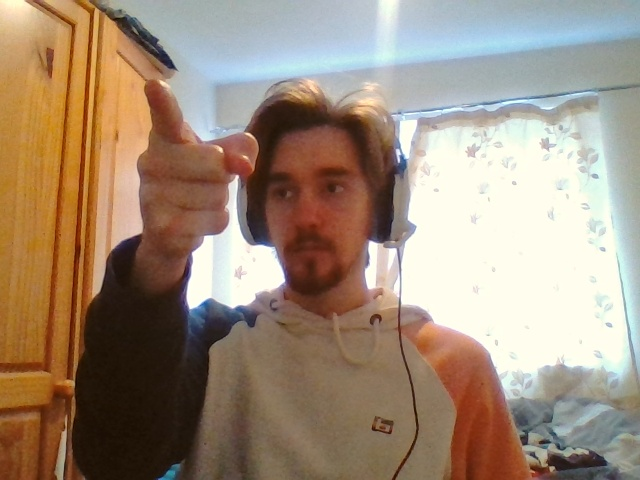you: (137, 80, 257, 247)
